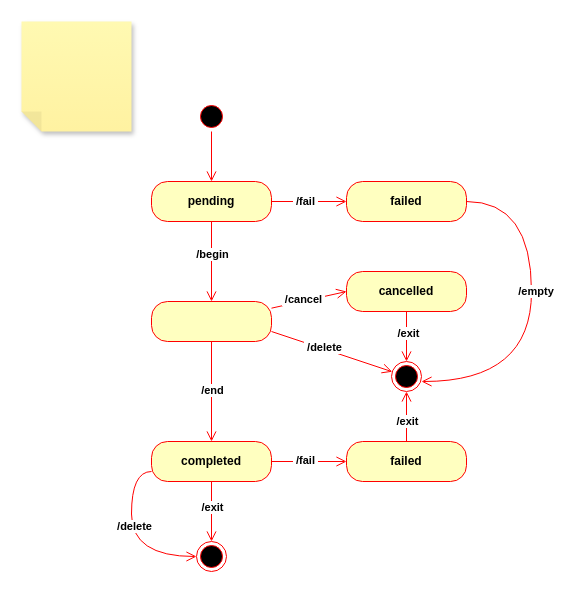
Image size: 570x589. Some labels were removed from this diagram. Here are the shapes that lost their labels. From the top down, the centre of each, then its label:
At (x=77, y=77): "- pending - processing - completed - failed - cancelled".
At (x=211, y=321): "processing".
